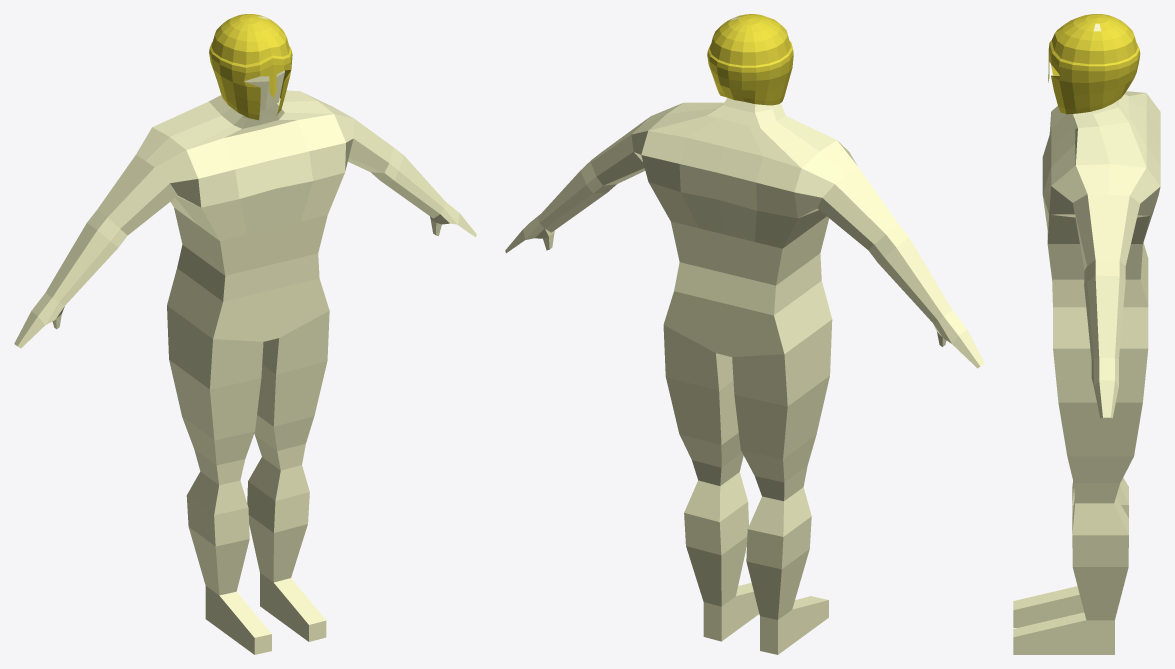
Rendered from carrara_pawn.fbx.
The picture shows the model from 3 angles, left to right: view 1: azimuth 30°, elevation 25°; view 2: azimuth 150°, elevation 25°; view 3: azimuth 270°, elevation 25°; orthographic projection. The views are drawn at different scales.
Parts seen in each view (by area): view 1: carrara pawn body; view 2: carrara pawn body; view 3: carrara pawn body.
Part boxes in pixels (<box>): carrara pawn body: <box>14,14,476,654</box>; carrara pawn body: <box>505,14,984,654</box>; carrara pawn body: <box>1013,14,1160,654</box>.
Bounding box in the file's own units: 145 × 180 × 38.83.
